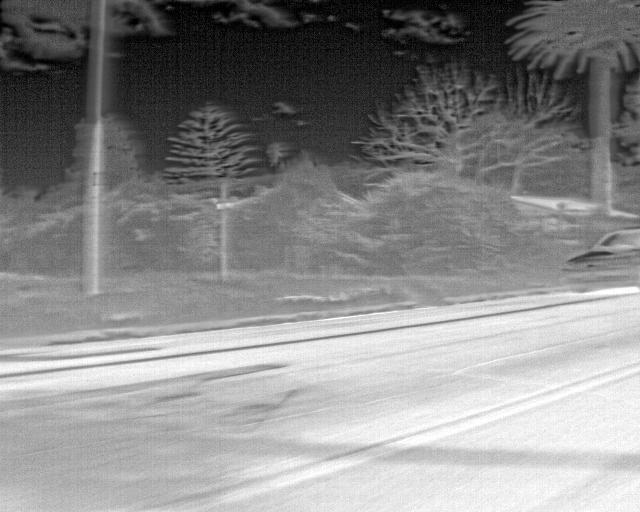car: (561, 227, 639, 294)
